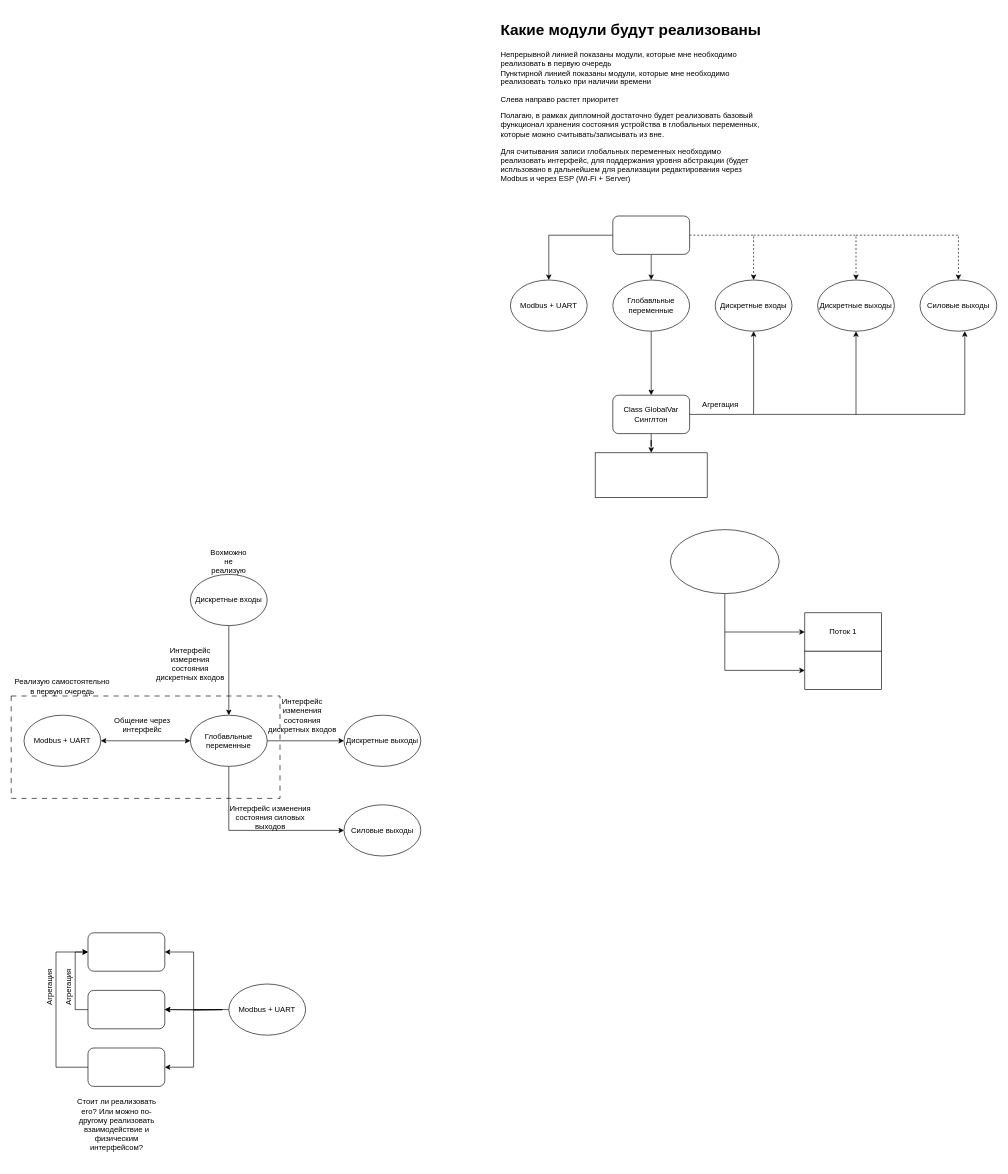
This 1008x1174 diagram has some shape labels left out. Here are the shapes that lost their labels. From the top down, the box of each, then its label:
(612, 215, 690, 254): Модули в программе
(595, 452, 707, 498): Подумать как можно грамотно реализовать с точки зрения архитектуры
(670, 529, 779, 594): Применяем ли ОС?
(804, 651, 882, 690): Поток 2 ...
(87, 932, 165, 971): Class Modbus
(87, 990, 165, 1029): Class ProgramTimer
(87, 1047, 165, 1086): Class UartManager
